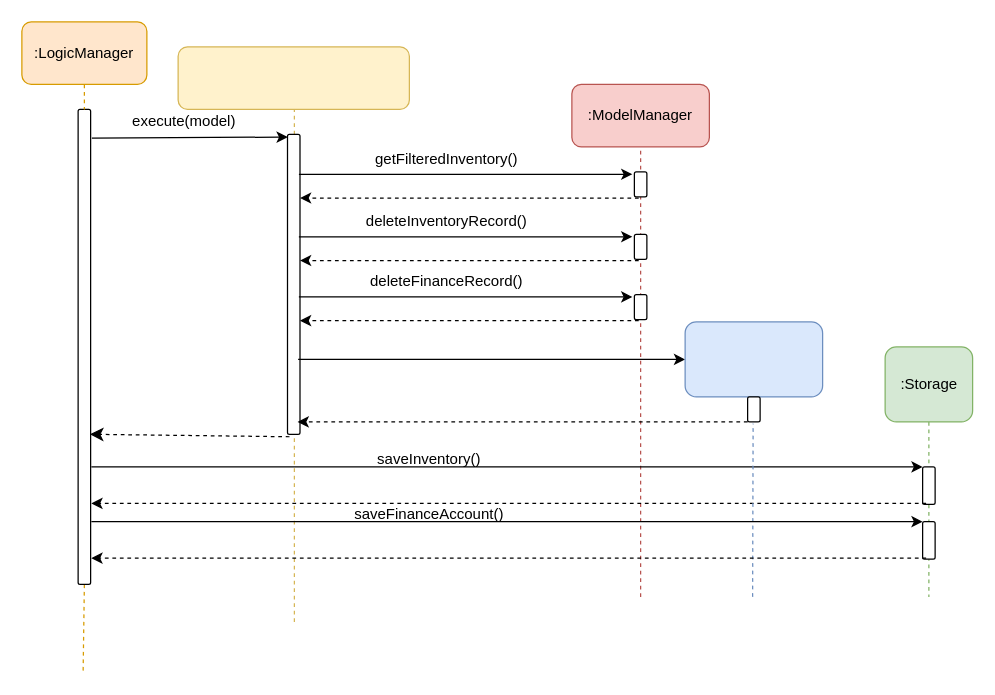
Some shapes in this 995 by 695 pixel diagram are drawn without their labels. The centre of each missing label's shape, as x and y in pixels:
":CommandResult" goes at (753,359).
":DeleteInventoryRecordCommand" goes at (293,77).
